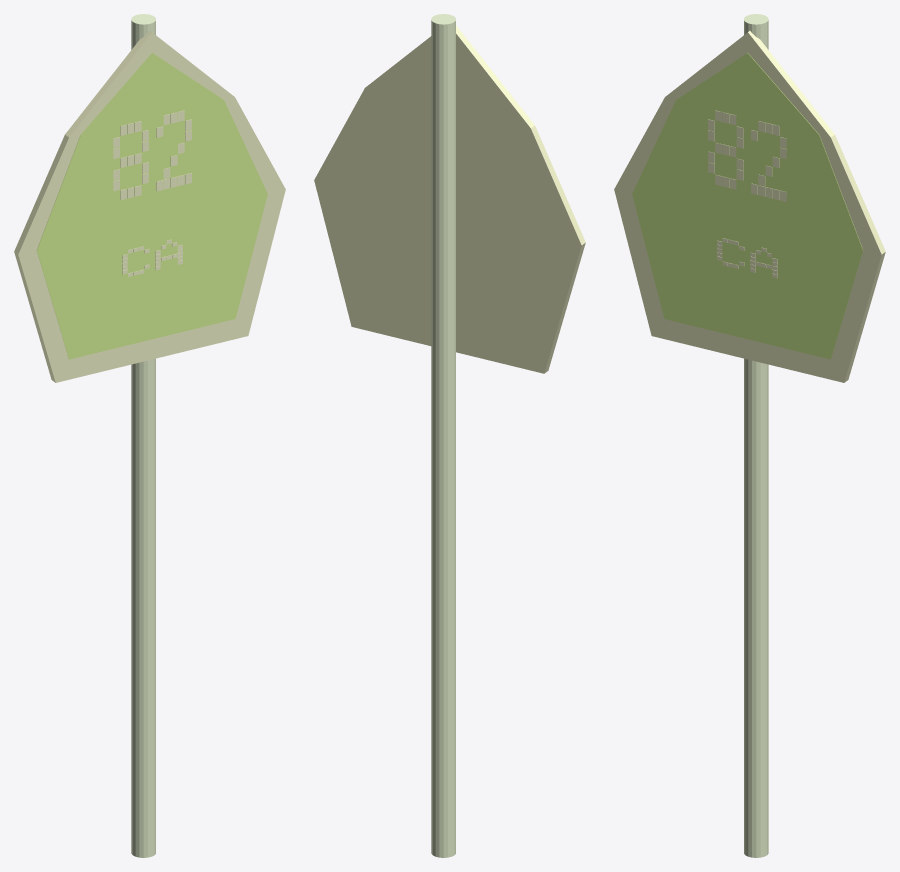
File: sign_route_ca_82_shield.glb
3 renders of one model, left to right at view 1: azimuth 30°, elevation 25°; view 2: azimuth 150°, elevation 25°; view 3: azimuth 330°, elevation 25°, orthographic.
Parts seen in each view (by area): view 1: layer_1_00, plate_base_00, pole; view 2: plate_base_00, pole; view 3: layer_1_00, plate_base_00, pole.
Boxes of the visible parts, left/top/right/bottom form: layer_1_00: left=36, top=53, right=267, bottom=359; plate_base_00: left=14, top=31, right=285, bottom=382; pole: left=131, top=14, right=155, bottom=857; plate_base_00: left=314, top=25, right=585, bottom=373; pole: left=431, top=14, right=455, bottom=857; layer_1_00: left=632, top=53, right=863, bottom=359; plate_base_00: left=614, top=31, right=885, bottom=382; pole: left=744, top=14, right=768, bottom=857.
Size of the model in its own units: 0.7392 by 2.2 by 0.0725.
